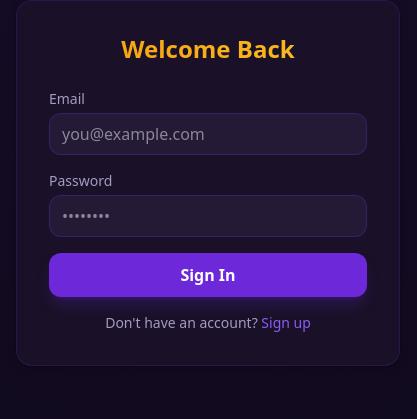
Test: AuthForm › error handling › shows generic error for non-Error exceptions
Type "test@example.com" into the field with placeholder "you@example.com" at x=208, y=134, box [49, 113, 367, 155]
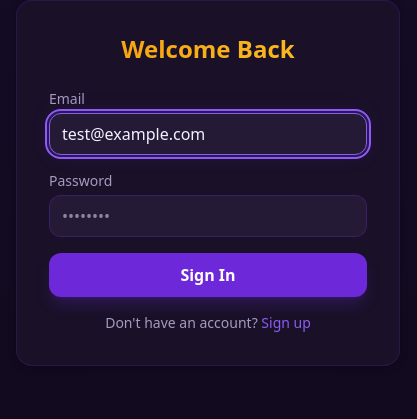
Type "password123" into the password field with placeholder "••••••••" at x=208, y=216, box [49, 195, 367, 237]
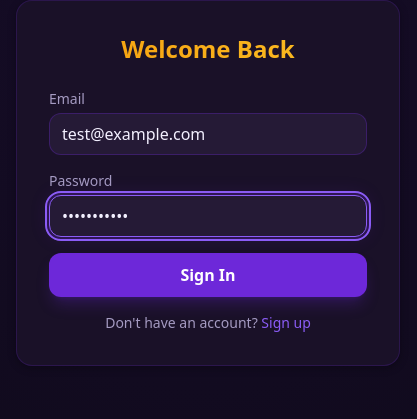
Click the button "Sign In" at x=208, y=275, box [49, 253, 367, 297]
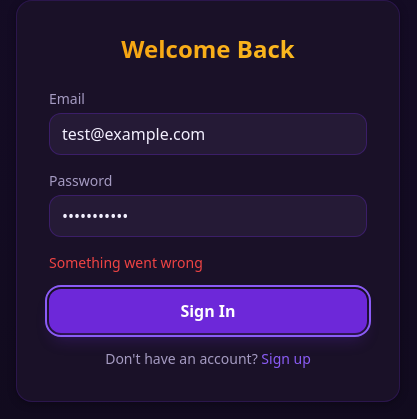
expect the text "Something went wrong" is shown: met, box [49, 253, 203, 272]
